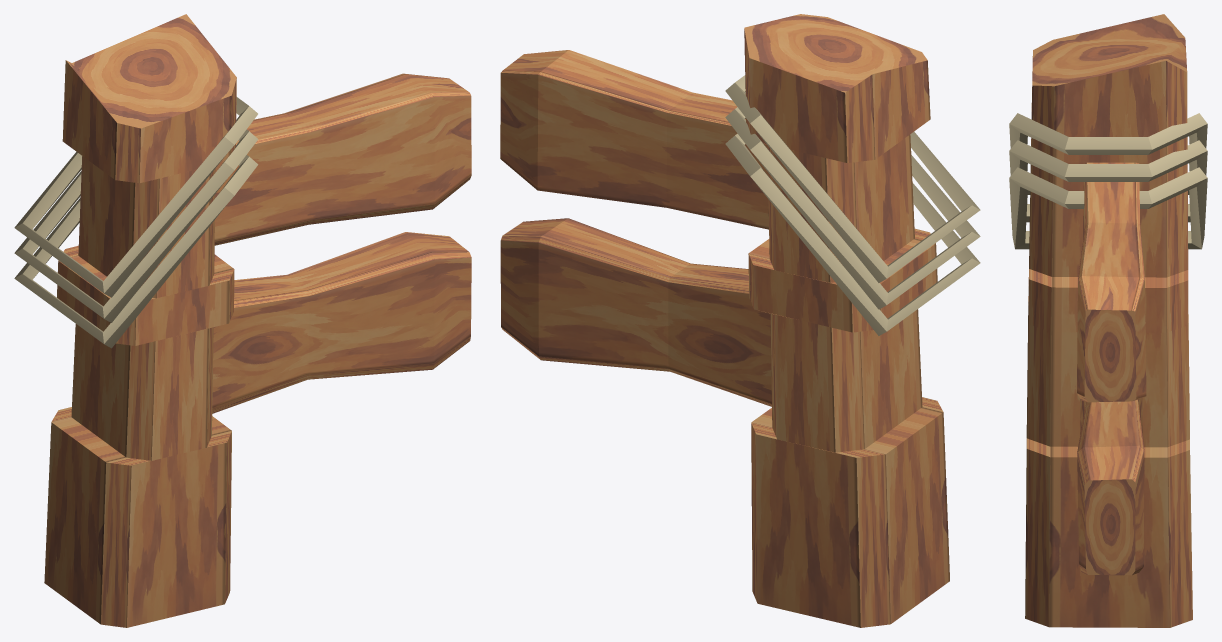
The model's file is fence_w_80_b.glb.
The picture shows the model from 3 angles, left to right: view 1: azimuth 30°, elevation 25°; view 2: azimuth 150°, elevation 25°; view 3: azimuth 270°, elevation 25°; orthographic projection. The views are drawn at different scales.
Parts seen in each view (by area): view 1: fence_w_80_b; view 2: fence_w_80_b; view 3: fence_w_80_b.
Part boxes in pixels (x1,y1,x2,y2): fence_w_80_b: (14,14,471,627); fence_w_80_b: (500,14,980,627); fence_w_80_b: (1009,14,1207,627).
Size of the model in its own units: 0.9954 by 1.27 by 0.3989.
1 material, 1 textured.
